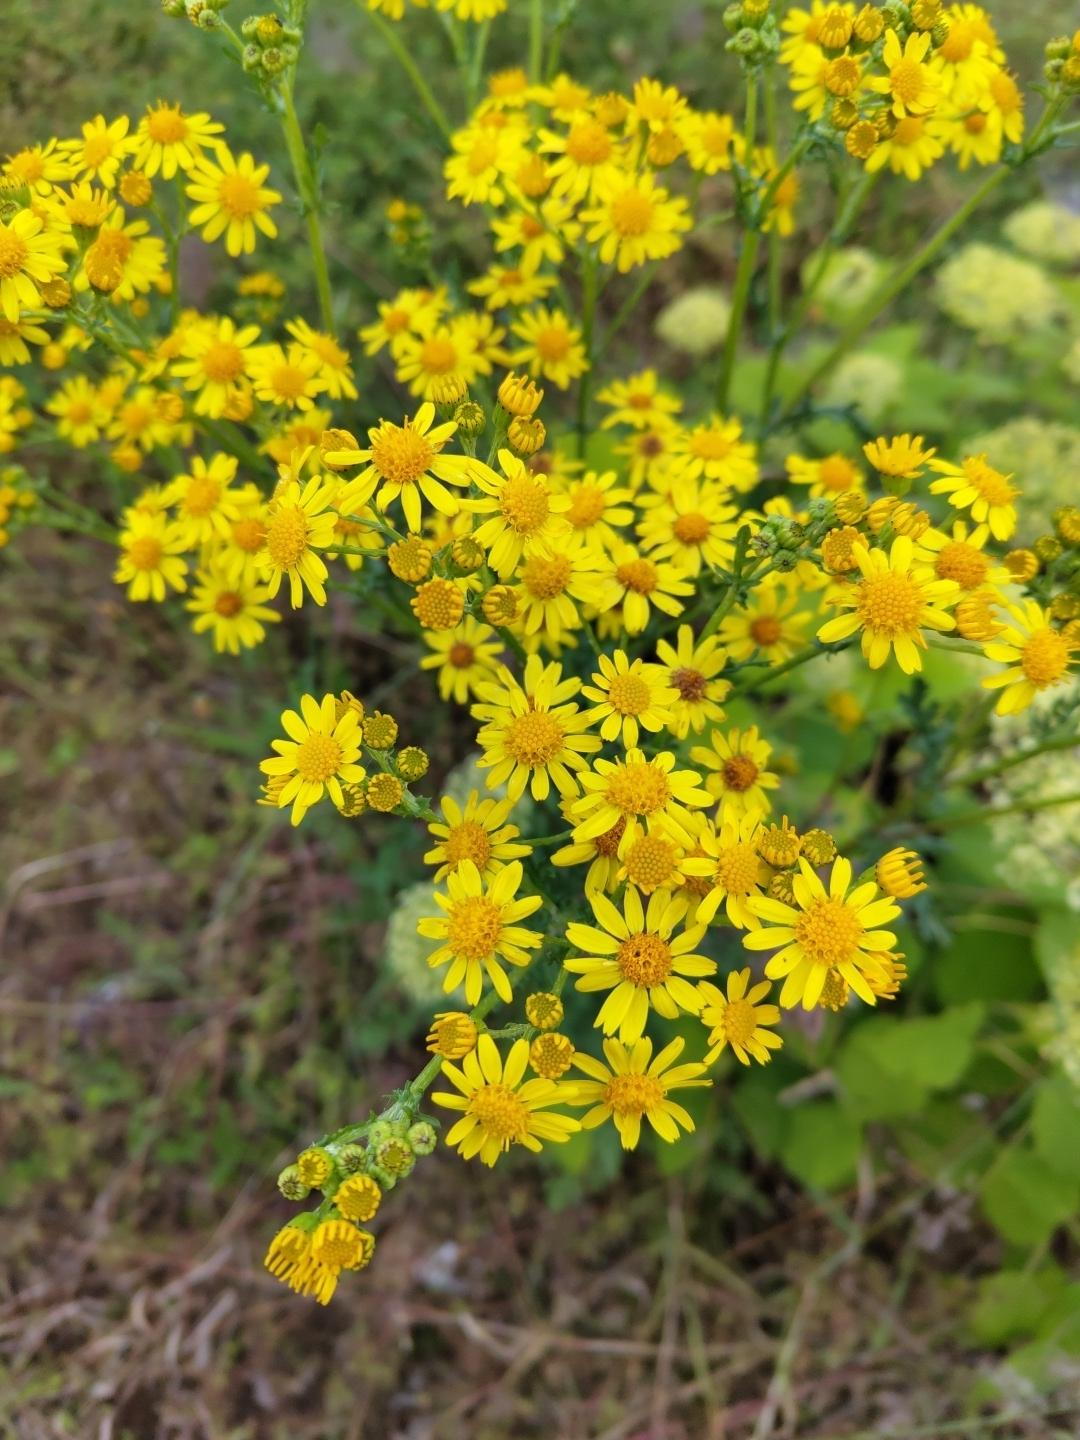Jacobaea vulgaris: (0, 0, 1080, 1288)
